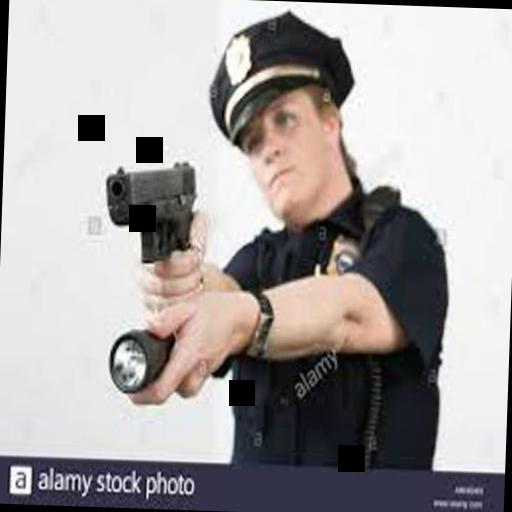Handgun: (100, 151, 200, 271)
